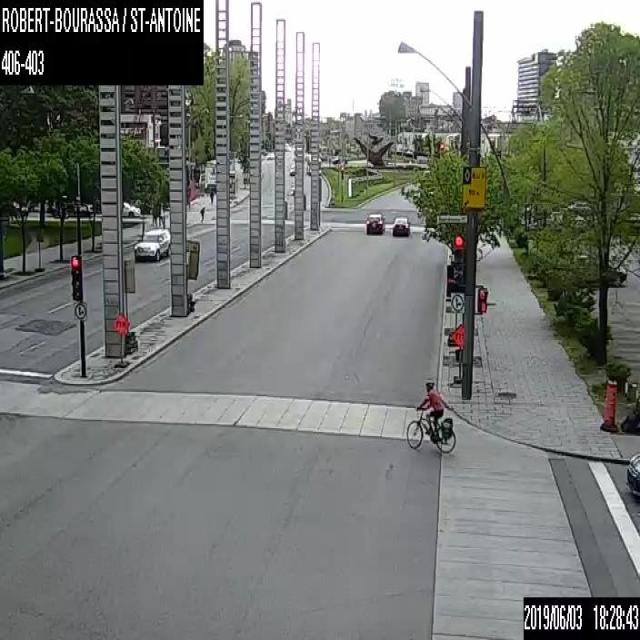bus: (306, 154, 320, 174)
construction: (122, 254, 138, 352), (186, 238, 199, 313), (600, 378, 617, 431), (113, 311, 129, 364), (450, 323, 463, 380)
cyclist: (404, 380, 456, 451)
pedestrian: (158, 200, 165, 225), (151, 200, 157, 225), (200, 205, 204, 222), (209, 190, 214, 202)
vehicle: (580, 255, 626, 288), (134, 225, 170, 260), (626, 452, 639, 497), (64, 198, 93, 216), (366, 211, 384, 233), (391, 213, 408, 235), (122, 200, 139, 219), (290, 164, 294, 175), (290, 182, 294, 193)
